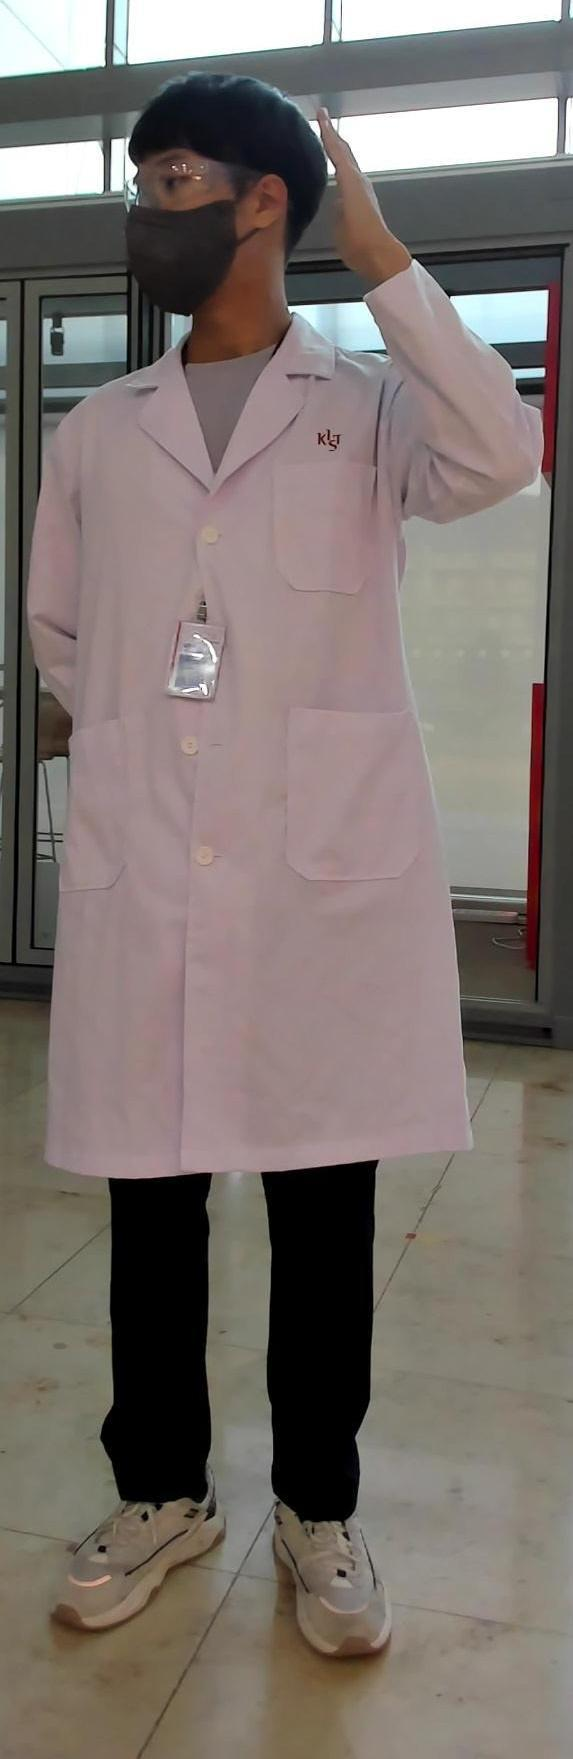lab_coat: (1, 381, 501, 1144)
